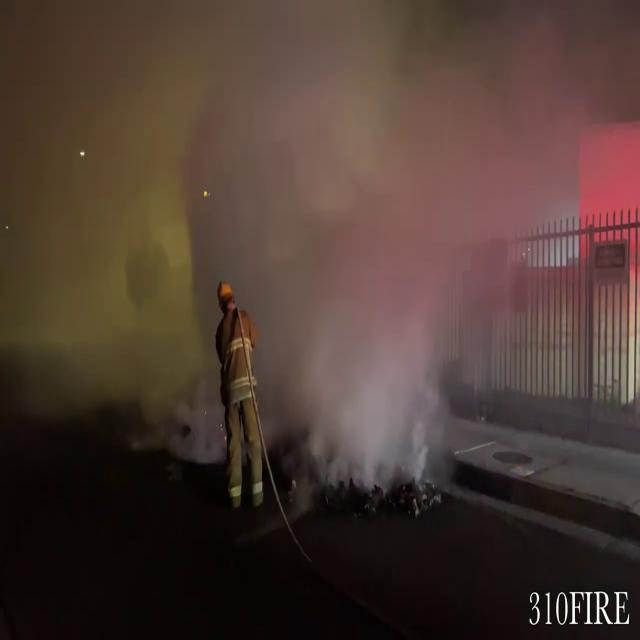Smoke: (0, 0, 634, 485)
